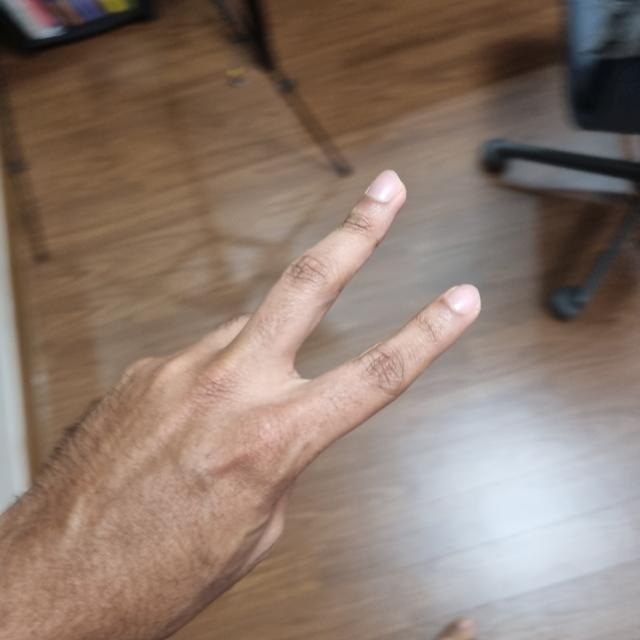Scissors: (1, 176, 477, 638)
